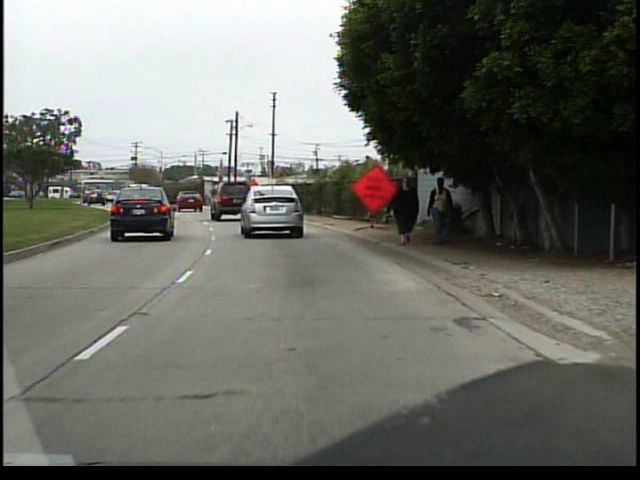person: (382, 171, 422, 251), (423, 176, 454, 248)
